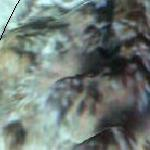alive: (2, 5, 148, 147)
